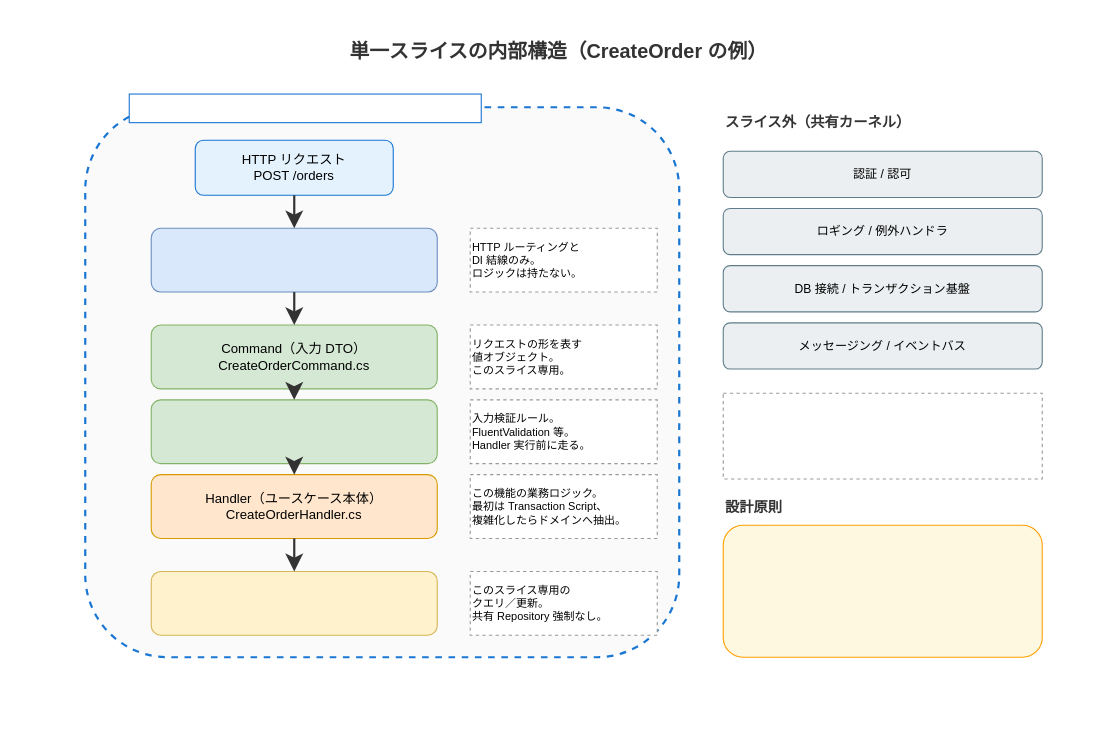
Some shapes in this 1115 by 741 pixel diagram are drawn without their labels. The shapes that lost their labels are listed below. From the top down, each one's box as (x1, y1, x2, y2) in pixels, then its label:
(128, 93, 481, 123): features/CreateOrder/ （1 機能 = 1 ディレクトリ）
(150, 227, 437, 292): Endpoint（Controller / Handler ルート） CreateOrderEndpoint.cs
(150, 399, 437, 464): Validator（入力検証） CreateOrderValidator.cs
(722, 392, 1042, 479): 原則：スライスを跨ぐ純粋に技術的な関心事だけ 共有する。業務ロジックを共有カーネルに置くと、 Vertical Slice の利点（変更の局所化）が崩れる。
(150, 570, 437, 635): Persistence（DB アクセス） OrderRepository.cs
(722, 524, 1042, 657): ・スライス内の結合は強める（凝集） ・スライス間の結合は弱める ・抽象化は必要になってから入れる ・最初は CRUD、複雑化したらドメインを切る
